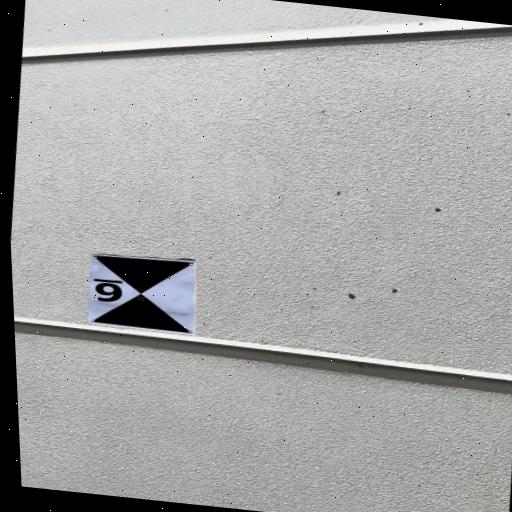target6: (87, 253, 194, 332)
